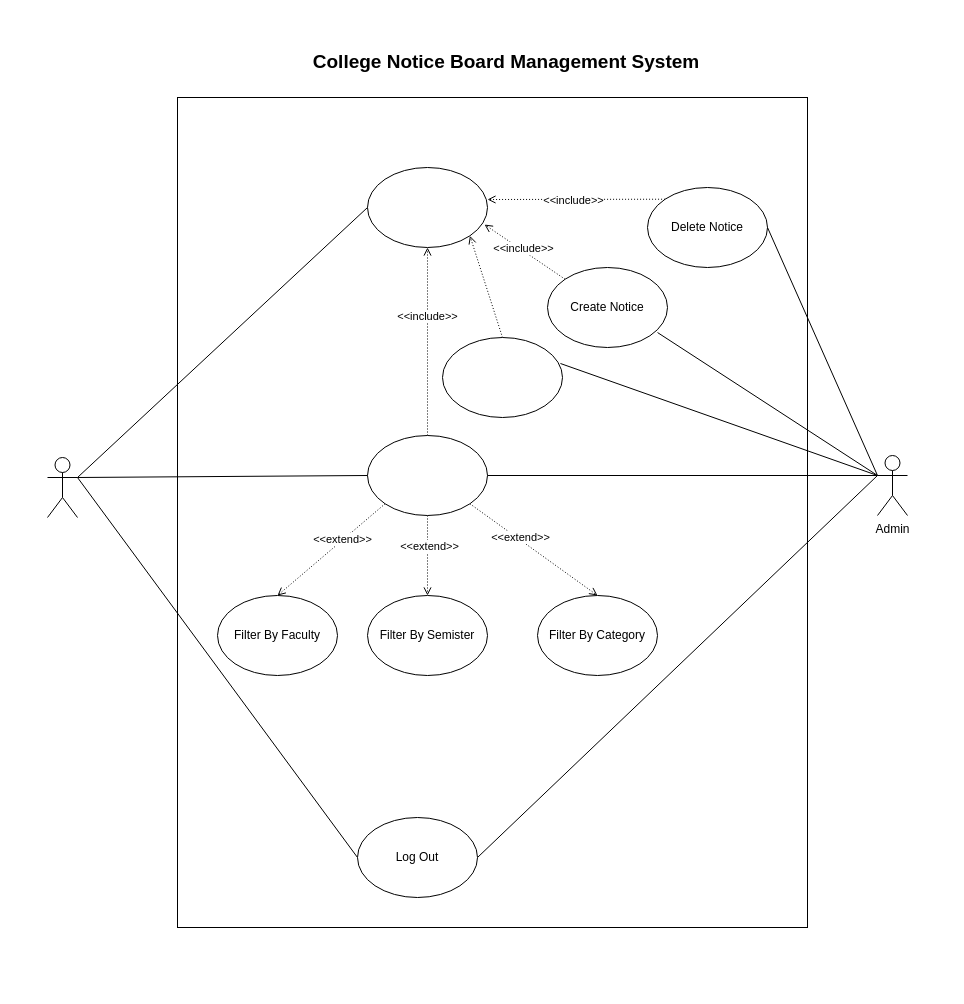
Some shapes in this 964 by 1004 pixel diagram are drawn without their labels. Here are the shapes that lost their labels. From the top down, the centre of each, then its label:
At point 427,207: "Login to System".
At point 502,377: "Update Notice".
At point 62,487: "Student".
At point 427,475: "View All Notice".
